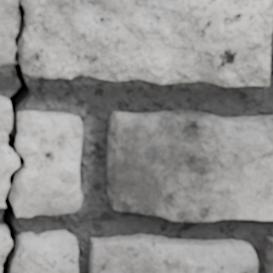brick: (107, 110, 272, 221), (89, 234, 257, 272), (264, 237, 272, 272)
broken_brick: (22, 0, 272, 87), (16, 110, 83, 218), (12, 229, 79, 272), (0, 95, 18, 208), (0, 0, 17, 67), (0, 223, 10, 270)
crack: (0, 0, 31, 272)
